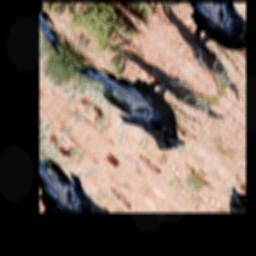Crow: (68, 15, 217, 165)
